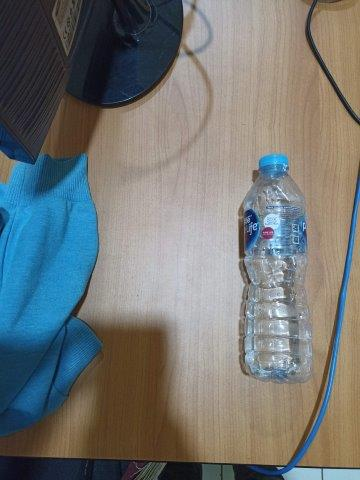botolplastik: (242, 154, 313, 381)
